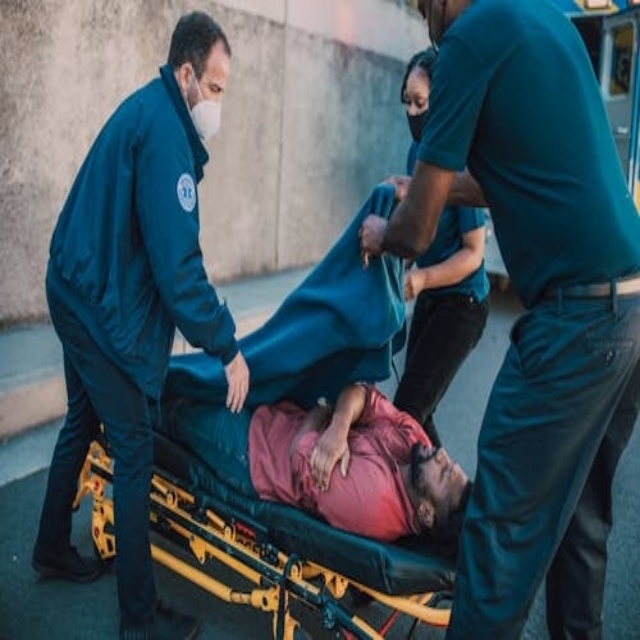Mascara: (188, 71, 223, 144), (405, 104, 427, 143)
Sin_gafas: (198, 62, 228, 96), (399, 88, 429, 106)
Sin_guantes: (303, 423, 353, 490), (225, 346, 253, 415), (397, 263, 431, 309), (357, 211, 389, 254)
